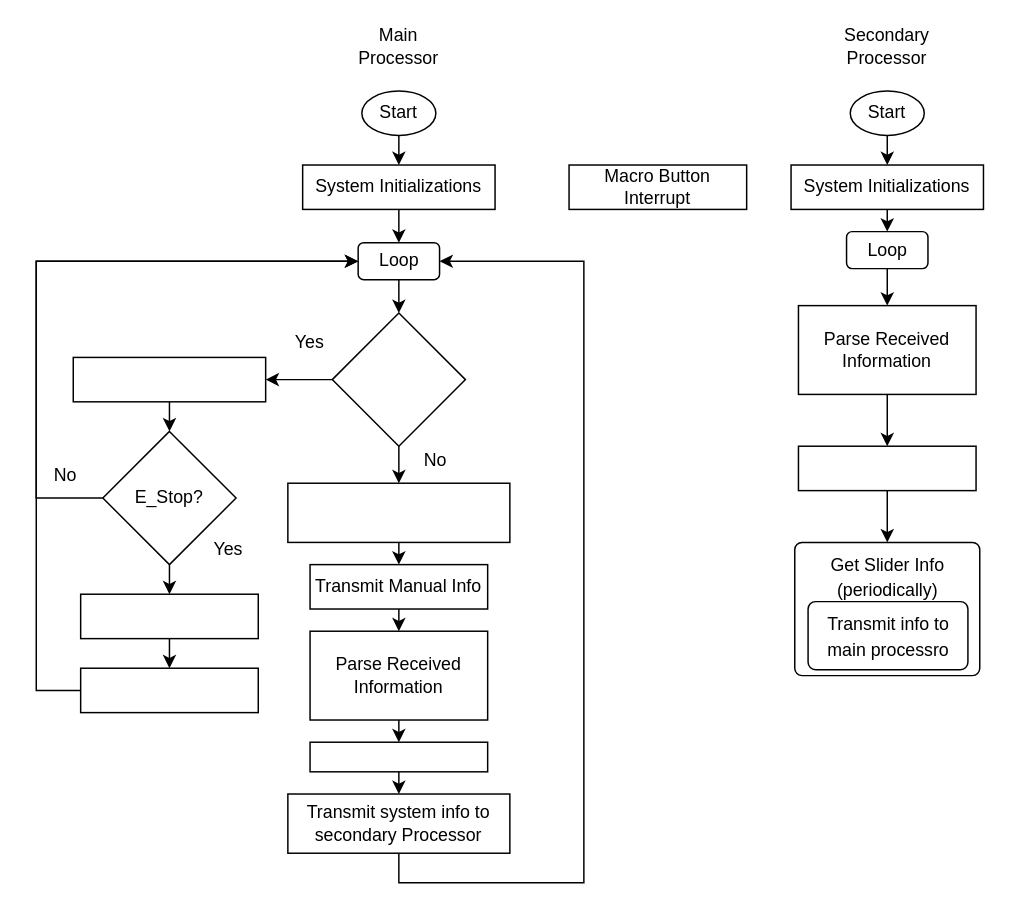
Image size: 1009x921. Some labels were removed from this diagram. The shapes that lost their labels are listed below. From the top down, each one's centre as x and y in pixels, then its label:
At (x=169, y=379): "Transmit Macro Value".
At (x=398, y=379): "Are we in a macro".
At (x=886, y=468): "Update Screen(s)".
At (x=398, y=512): "Use Lookup Table to update joystick values".
At (x=168, y=616): "Update Macro to 0".
At (x=168, y=690): "Transmit Stop Condition".
At (x=398, y=756): "Update Up-time".
